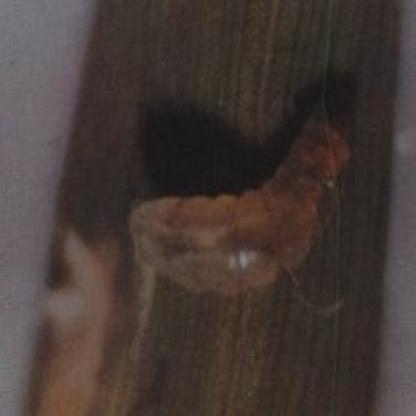whorl-maggot: (128, 115, 352, 302)
